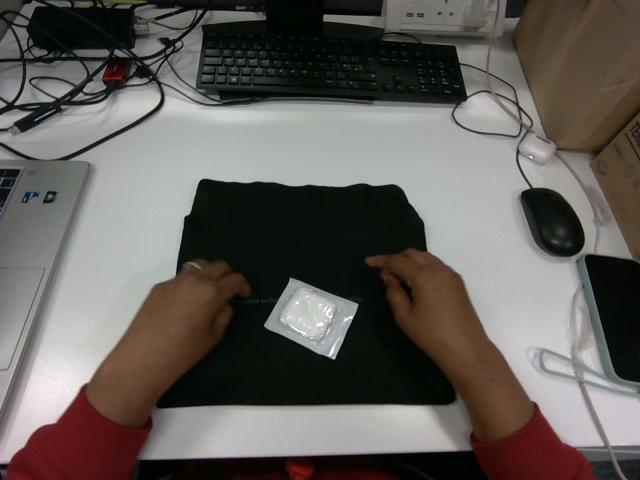gauze: (264, 278, 357, 358)
